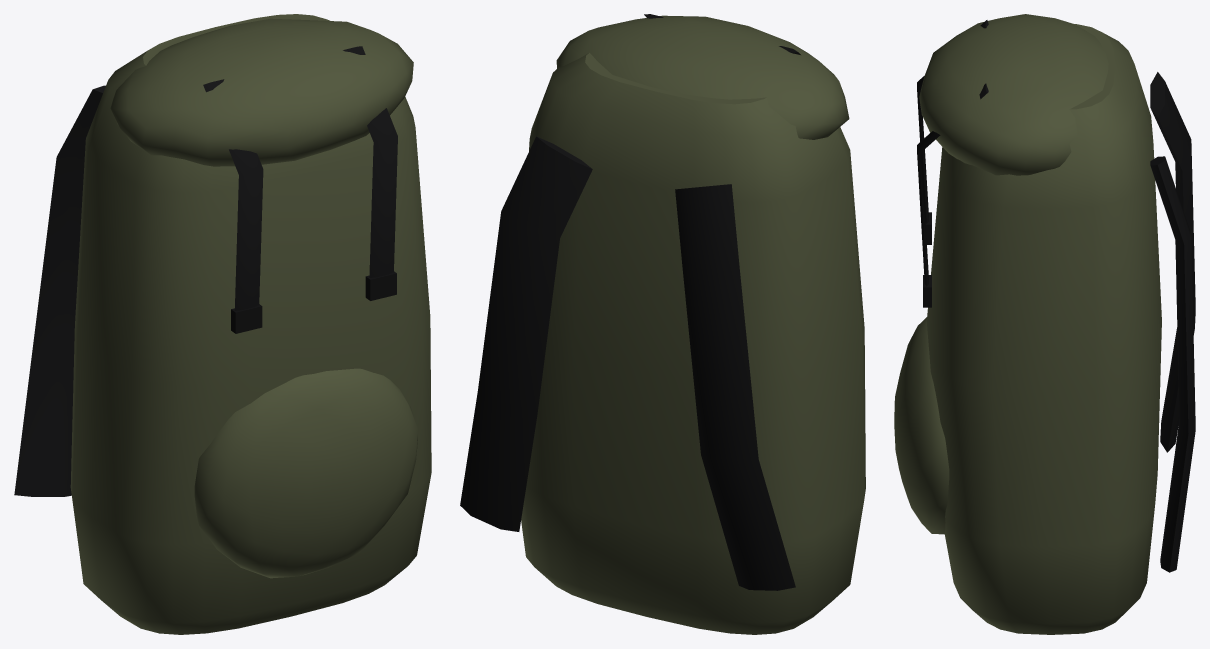
The model's file is backpack.glb.
3 views of the same model, side by side, from view 1: azimuth 30°, elevation 25°; view 2: azimuth 150°, elevation 25°; view 3: azimuth 270°, elevation 25° (orthographic). The views are drawn at different scales.
Visible parts, largest first — view 1: backpack; view 2: backpack; view 3: backpack.
Part boxes in pixels (x1=…): backpack: x1=14, y1=14, x2=431, y2=634; backpack: x1=460, y1=14, x2=865, y2=634; backpack: x1=894, y1=14, x2=1195, y2=634.
Size of the model in its own units: 0.3386 by 0.52 by 0.2688.
